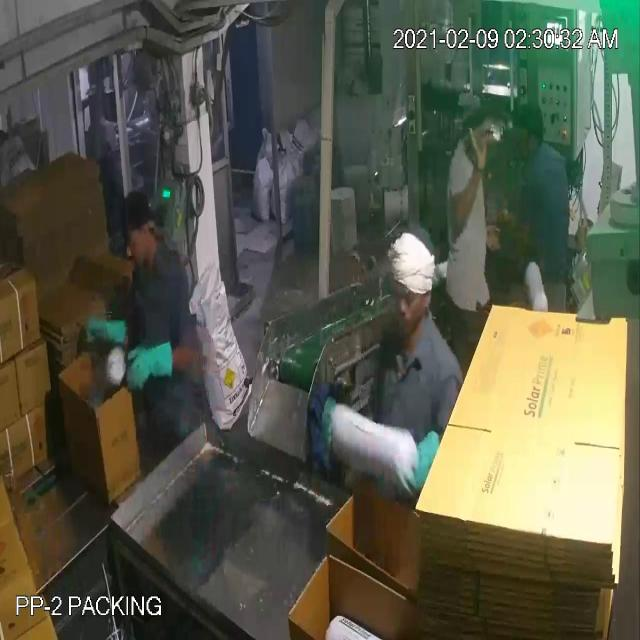gloves: (124, 340, 198, 390), (404, 424, 451, 501), (78, 309, 130, 359)
no-gloves: (450, 112, 492, 243)
